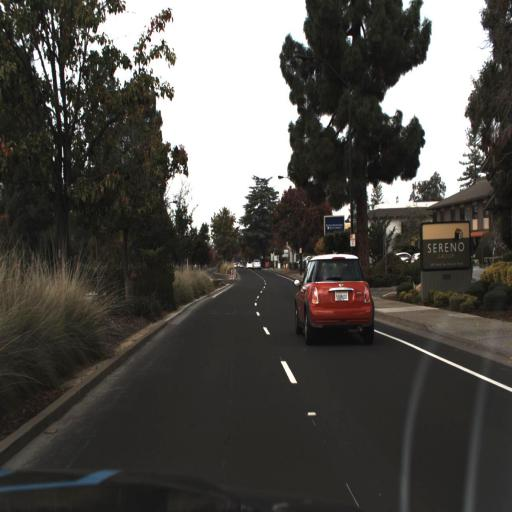car: (292, 250, 378, 341)
